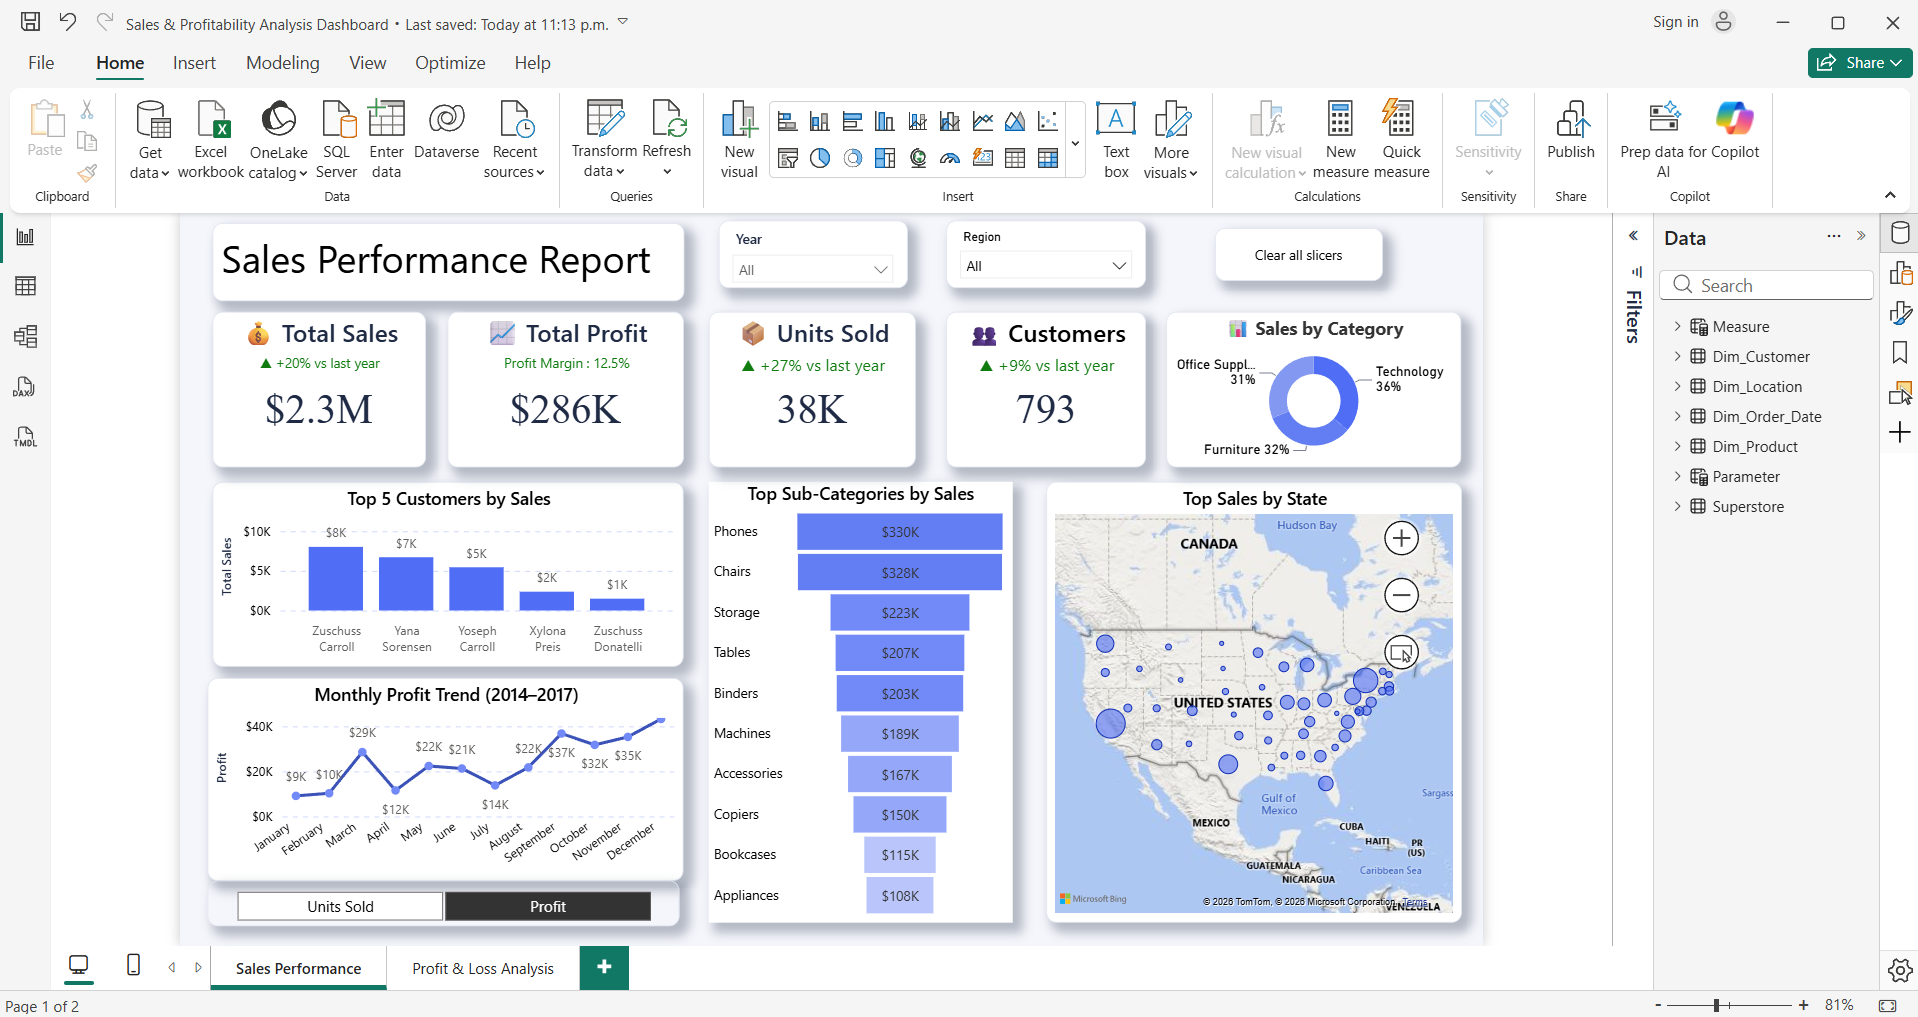

This screenshot's page, from the dashboard's own definition file:
{"tool":"powerbi","page":{"name":"Sales Performance","canvas":[1280,720],"ordinal":0},"visuals":[{"type":"cardVisual","title":"👥 Customers","fields":{"Data":["Measure.No. of Customers"]},"box":[751.7,96.7,196.2,152.9],"z":1000},{"type":"columnChart","title":"Top 5 Customers by Sales","fields":{"Category":["Dim_Customer.Customer Name"],"Y":["Measure.Total Sales"]},"box":[31.9,263.8,462.6,181.6],"z":2000},{"type":"lineChart","title":"Monthly Profit Trend (2014–2017)","fields":{"Category":["Dim_Order_Date.Month Name"],"Y":["Measure.Total Profit"]},"box":[27.4,455.9,467.5,199.1],"z":3000},{"type":"funnel","title":"Top Sub-Categories by Sales","fields":{"Category":["Superstore.Sub-Category"],"Y":["Measure.Total Sales"]},"box":[519.4,264,298.7,432.8],"z":4000},{"type":"actionButton","box":[1015.7,14.4,164.5,51.9],"z":5000},{"type":"slicer","fields":{"Values":["Parameter.parameter"]},"box":[27.4,655,463.1,44.7],"z":6000},{"type":"slicer","fields":{"Values":["Superstore.Region"]},"box":[751.7,7.2,196.2,66.4],"z":7000},{"type":"textbox","box":[31.7,10.1,463.1,76.5],"z":8000},{"type":"slicer","fields":{"Values":["Dim_Order_Date.Year"]},"box":[528.8,7.4,185.3,66.3],"z":9000},{"type":"cardVisual","title":"💰 Total Sales","fields":{"Data":["Measure.Total Sales"]},"box":[31.7,96.7,209.2,152.9],"z":10000},{"type":"cardVisual","title":"📦 Units Sold","fields":{"Data":["Measure.Units Sold"]},"box":[519.4,96.7,203.4,152.9],"z":11000},{"type":"map","title":"Top Sales by State","fields":{"Category":["Superstore.State"],"Size":["Measure.Total Sales"]},"box":[849.8,264,408.3,432.8],"z":12000},{"type":"cardVisual","title":"📈 Total Profit","fields":{"Data":["Measure.Total Profit"]},"box":[262.6,96.7,232.3,152.9],"z":13000},{"type":"donutChart","title":"📊 Sales by Category","fields":{"Category":["Superstore.Category"],"Y":["Measure.Total Sales"]},"box":[968.1,96.7,290,152.9],"z":14000}]}

Visuals, with their boxes on the page's 1280x720 design canvas (x1, y1, x2, y2). These are canvas units, not pixel positions in the 1918x1017 screenshot, which may show the page scaled, cropped or inside an application window:
"👥 Customers" cardVisual: 752, 97, 948, 250
"Top 5 Customers by Sales" columnChart: 32, 264, 494, 445
"Monthly Profit Trend (2014–2017)" lineChart: 27, 456, 495, 655
"Top Sub-Categories by Sales" funnel: 519, 264, 818, 697
actionButton: 1016, 14, 1180, 66
slicer - Parameter.parameter: 27, 655, 490, 700
slicer - Superstore.Region: 752, 7, 948, 74
textbox: 32, 10, 495, 87
slicer - Dim_Order_Date.Year: 529, 7, 714, 74
"💰 Total Sales" cardVisual: 32, 97, 241, 250
"📦 Units Sold" cardVisual: 519, 97, 723, 250
"Top Sales by State" map: 850, 264, 1258, 697
"📈 Total Profit" cardVisual: 263, 97, 495, 250
"📊 Sales by Category" donutChart: 968, 97, 1258, 250
